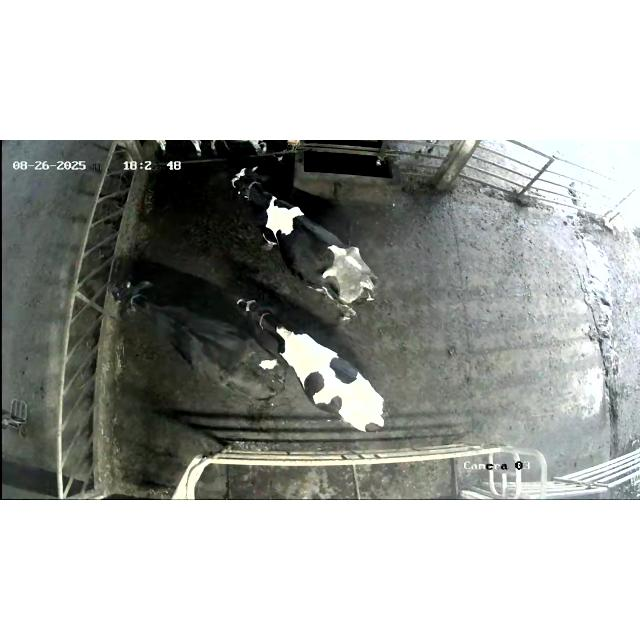stand: (110, 273, 280, 427), (234, 295, 400, 445), (231, 167, 377, 321)
